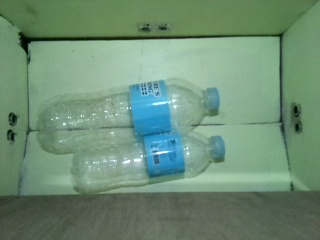bottle: (36, 76, 220, 153), (69, 129, 225, 192)
